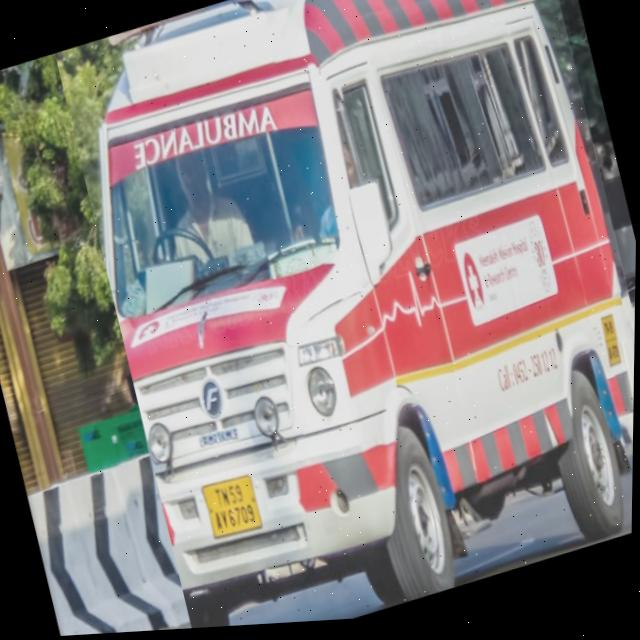Ambulance: (48, 0, 640, 637)
